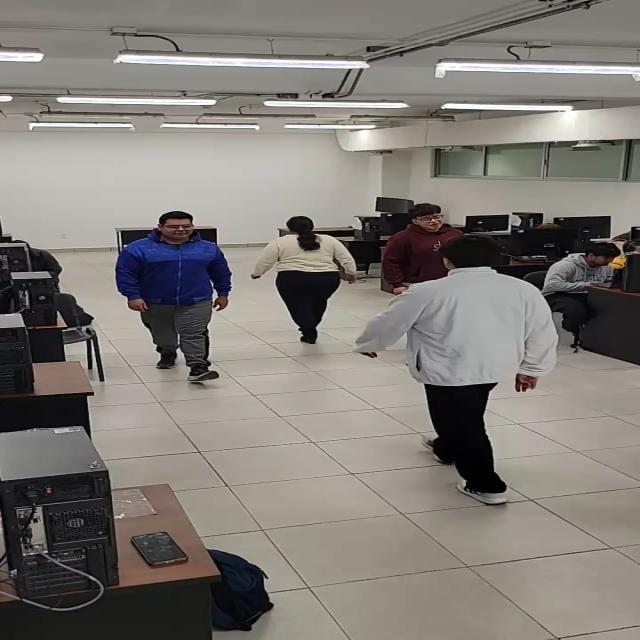Persona: (348, 233, 558, 506), (115, 210, 234, 381), (252, 216, 358, 345), (378, 204, 470, 296)
